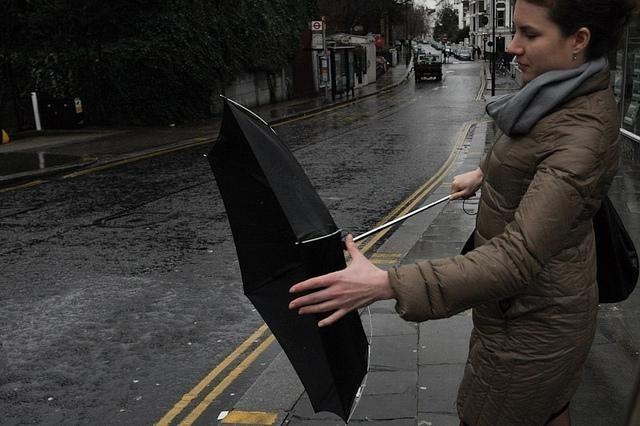car: (460, 50, 471, 62), (449, 48, 457, 56), (433, 43, 442, 50), (446, 45, 450, 52), (422, 40, 428, 44)
truck: (414, 55, 442, 82)
